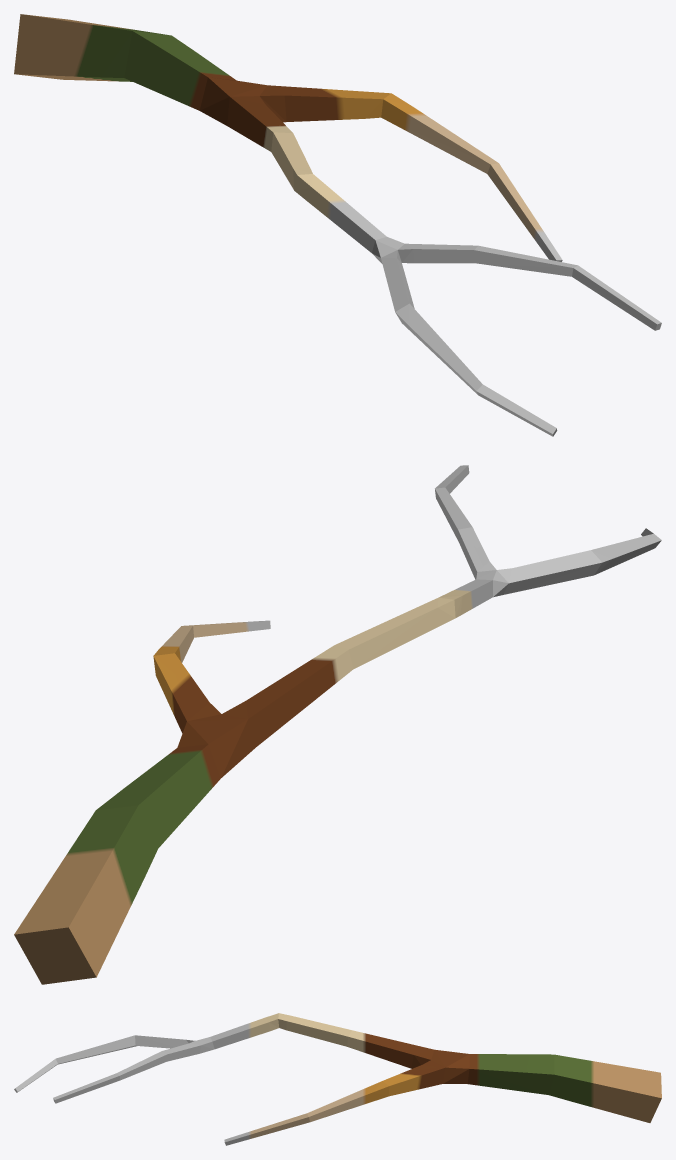
File: Branch_03.fbx
The picture shows the model from 3 angles, top to bottom: view 1: azimuth 30°, elevation 25°; view 2: azimuth 150°, elevation 25°; view 3: azimuth 270°, elevation 25°; orthographic projection. The views are drawn at different scales.
Visible parts, largest first — view 1: Branch_03; view 2: Branch_03; view 3: Branch_03.
Part boxes in pixels (bbox=[...]): Branch_03: bbox=[14, 14, 661, 436]; Branch_03: bbox=[14, 465, 661, 984]; Branch_03: bbox=[14, 1013, 661, 1145].
Size of the model in its own units: 0.8608 by 0.4925 by 3.25.
